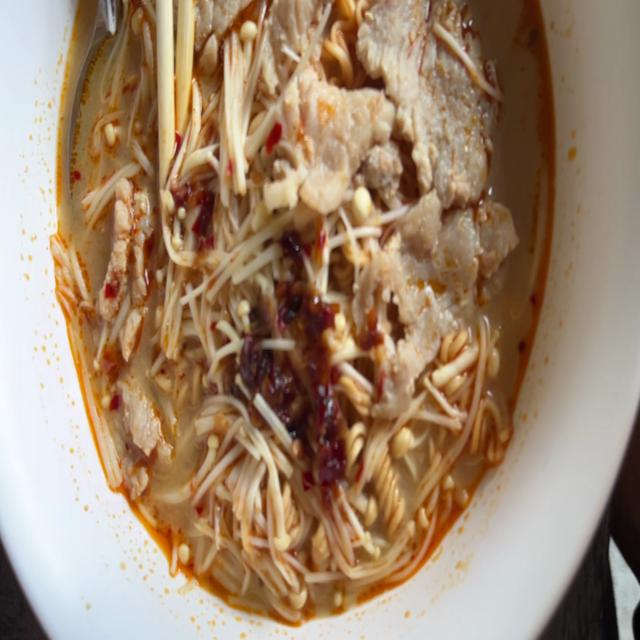noodle: (39, 0, 568, 629)
